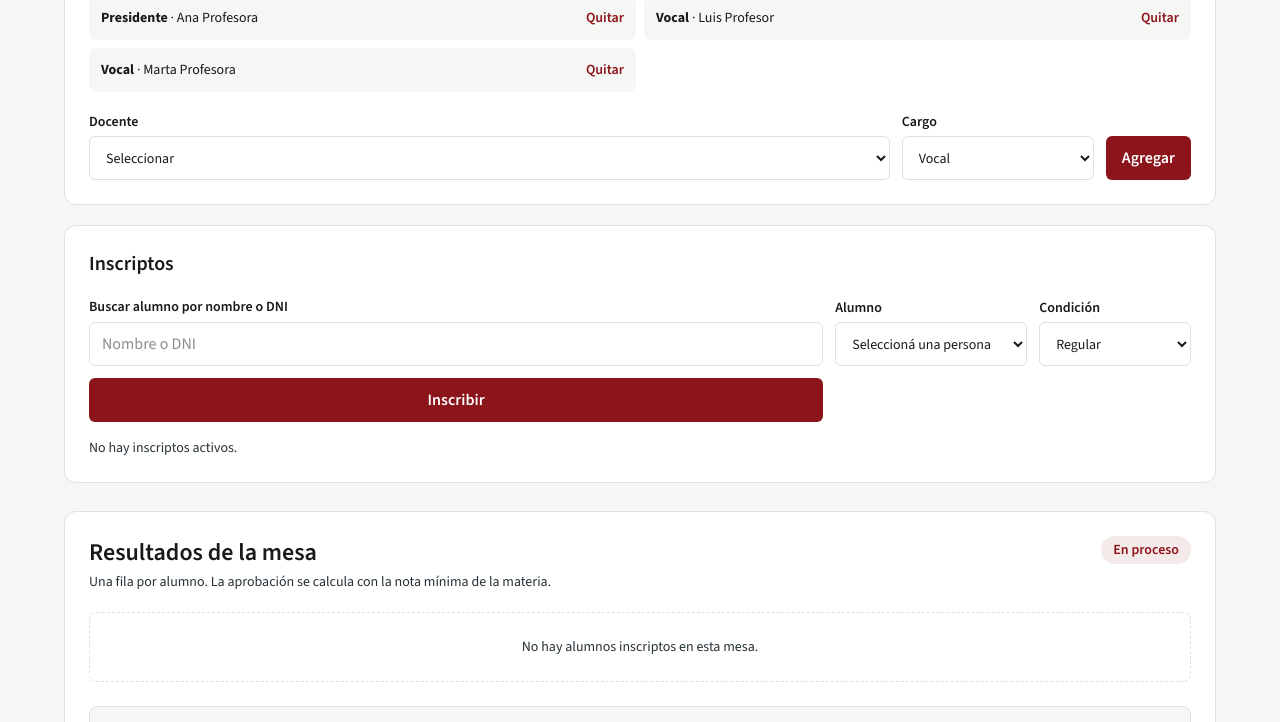
Test case: AdminExamsView › debounces student identity lookup and preserves the selected student after an enrollment failure
(page scrolled)
Expected: the heading "Resultados de la mesa" is shown, left=89, top=536, right=317, bottom=568
Click the button "Inscribir" at x=456, y=400, box left=89, top=378, right=823, bottom=422
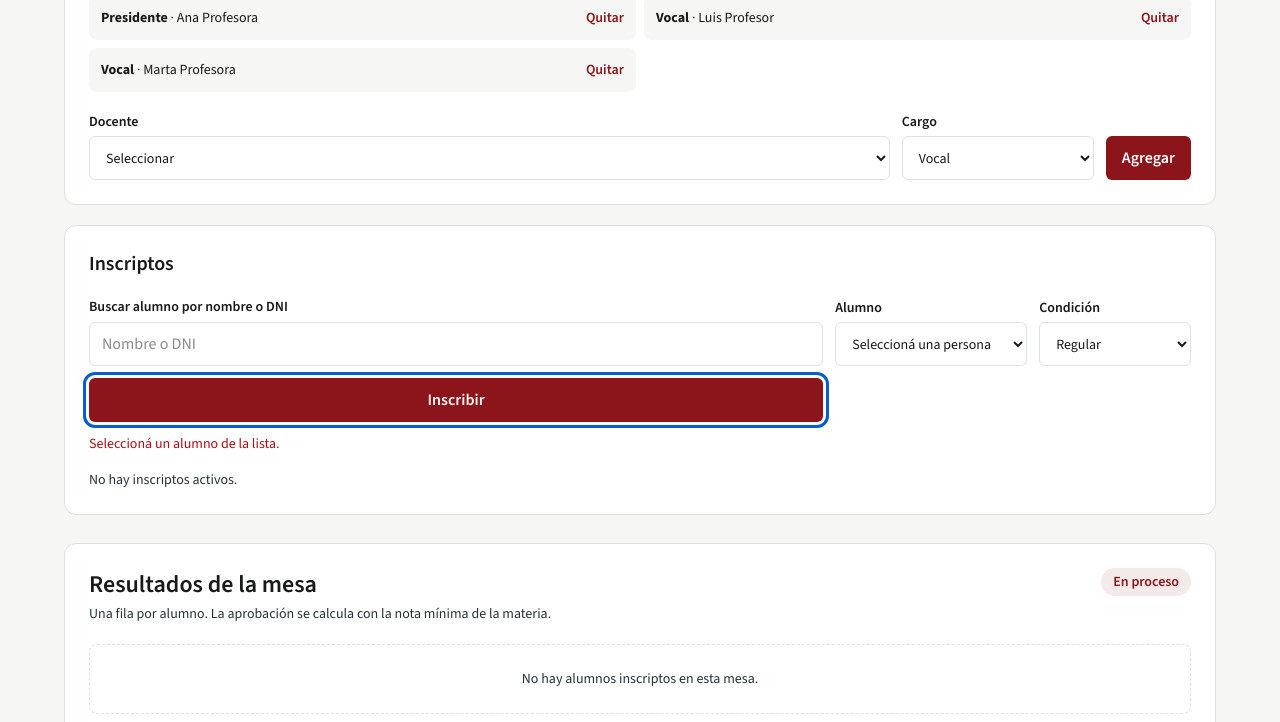
Expected: the text "Seleccioná un alumno de la lista." is shown, left=89, top=434, right=280, bottom=453
Type "luc" into the search field labelled "Buscar alumno por nombre o DNI" at x=456, y=344, box left=89, top=322, right=823, bottom=366
Wait 300 ms
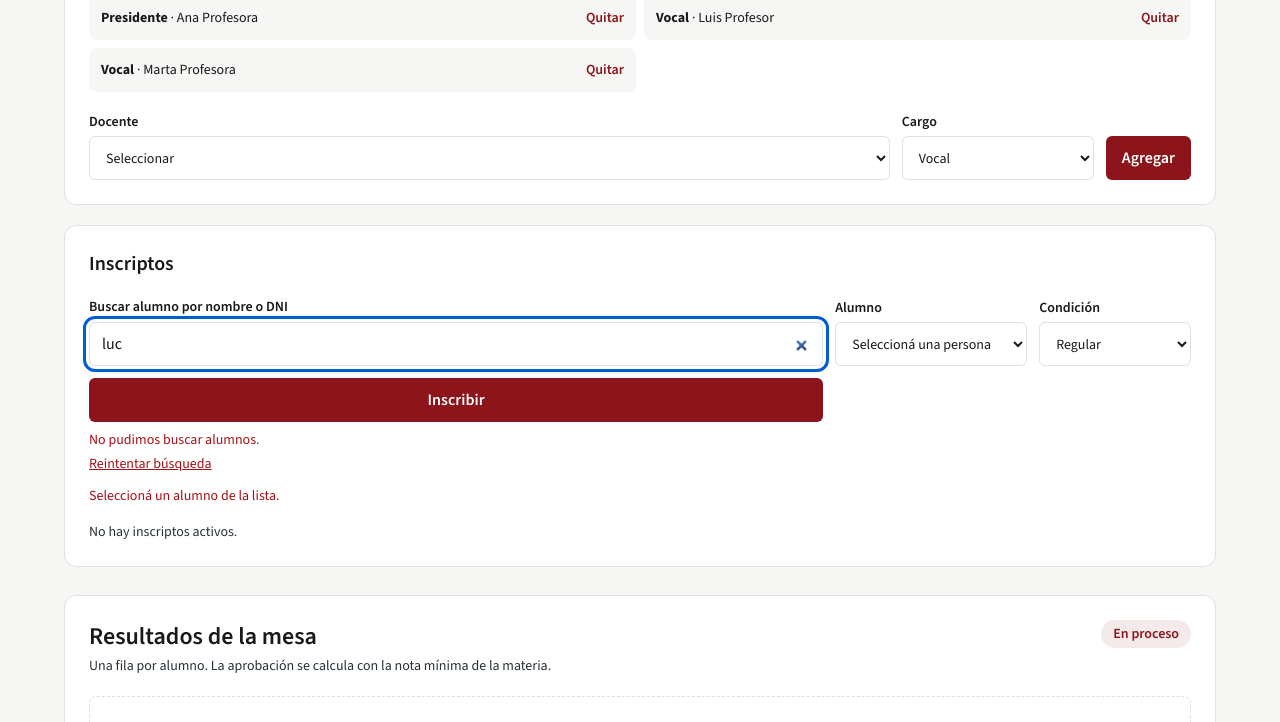
Expected: the button "Reintentar búsqueda" is shown
Click the button "Reintentar búsqueda" at x=150, y=464, box left=89, top=454, right=212, bottom=474
Wait 300 ms
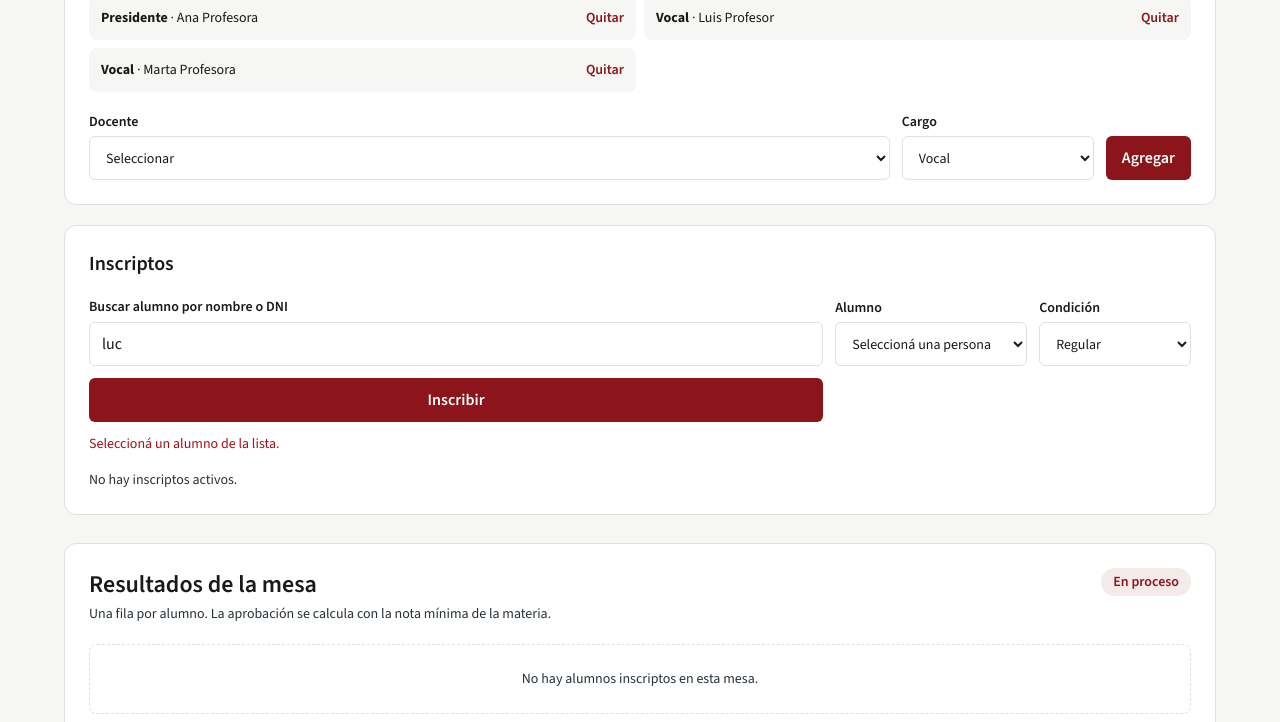
Select "Lucía Fernández · DNI 42666888" in the dropdown labelled "Alumno" at x=931, y=344, box left=835, top=322, right=1027, bottom=366
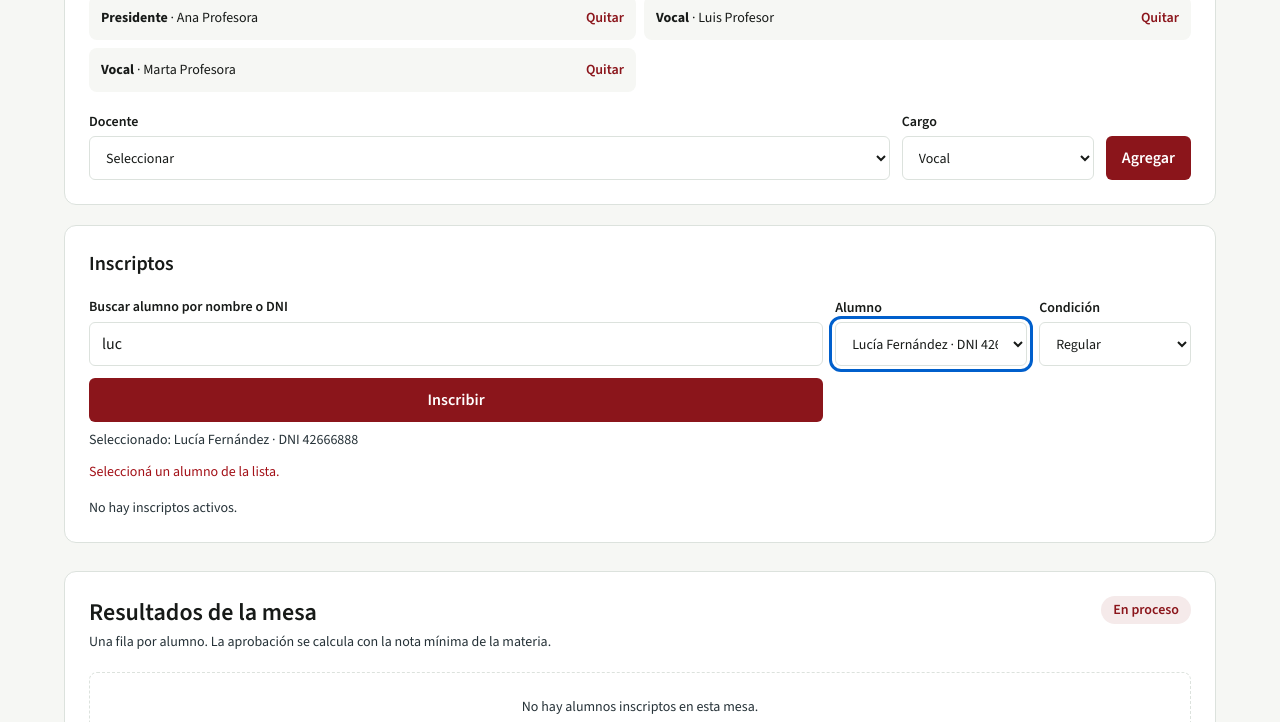
Click the button "Inscribir" at x=456, y=400, box left=89, top=378, right=823, bottom=422
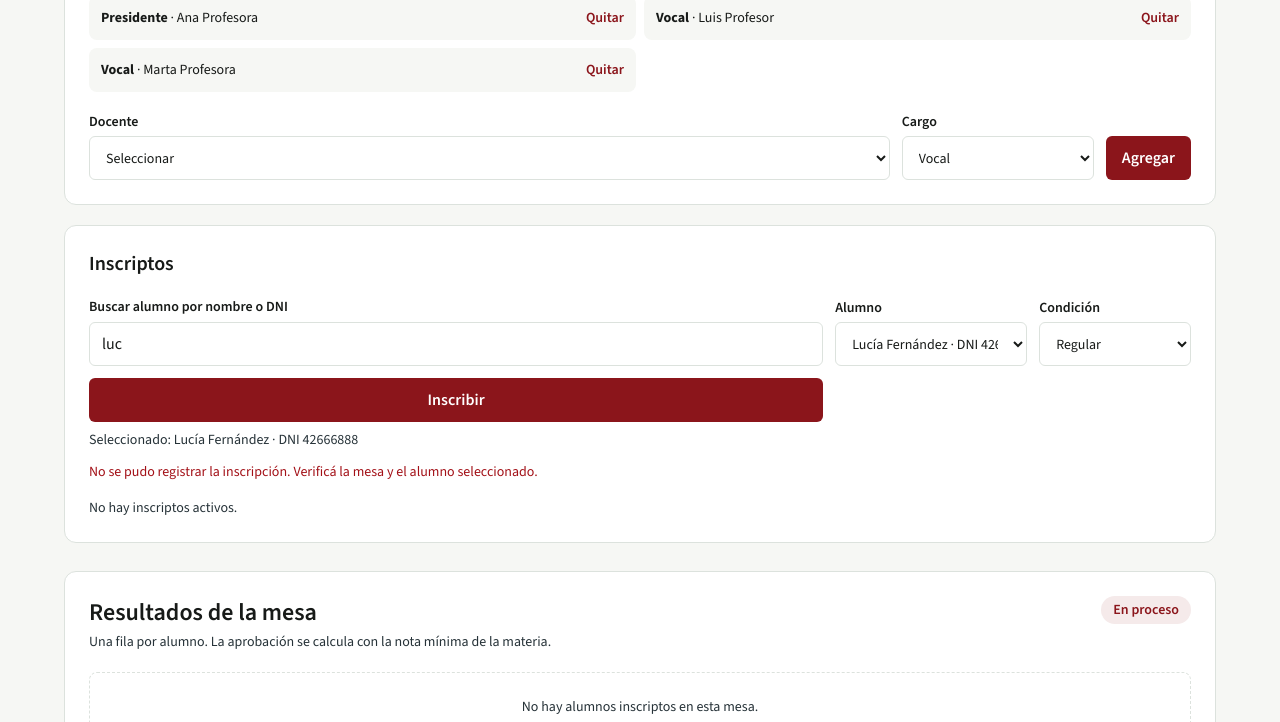
Expected: the text "Seleccionado: Lucía Fernández · DNI 42666888" is shown, left=89, top=430, right=358, bottom=449
Expected: the text "No se pudo registrar la inscripción" is shown, left=89, top=462, right=538, bottom=481
